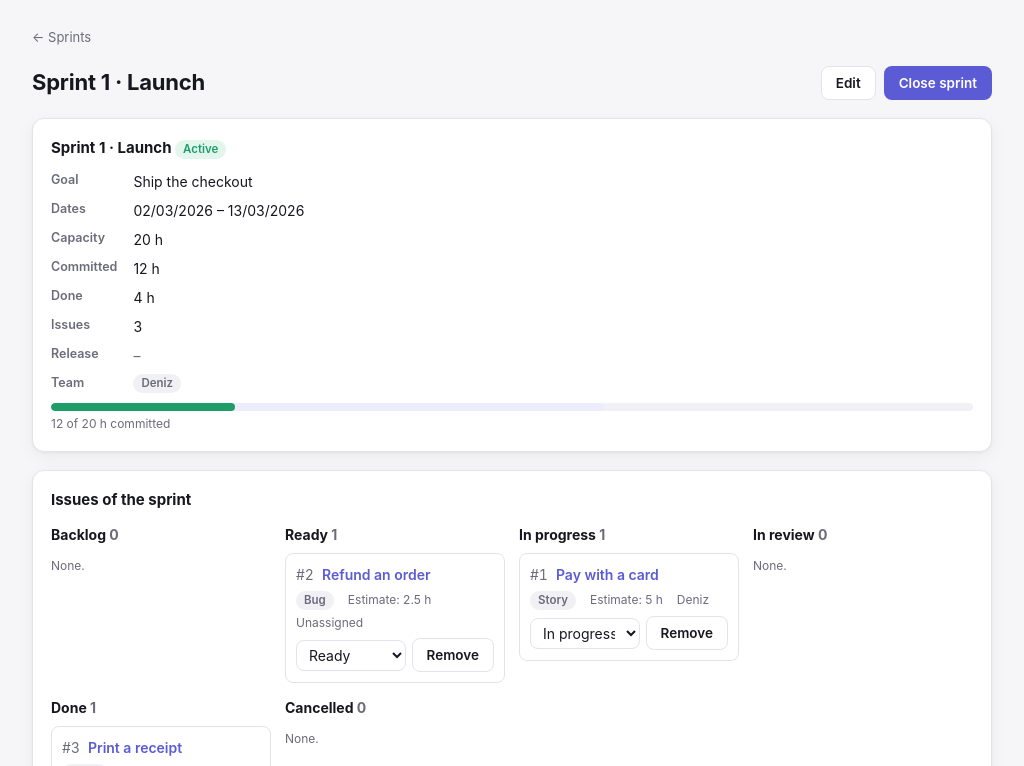
it: the sprint page: closing › shows a failed read of the planned sprints
The image size is (1024, 766).
Click the button "Close sprint".
click(938, 82)  # box [884, 66, 992, 100]
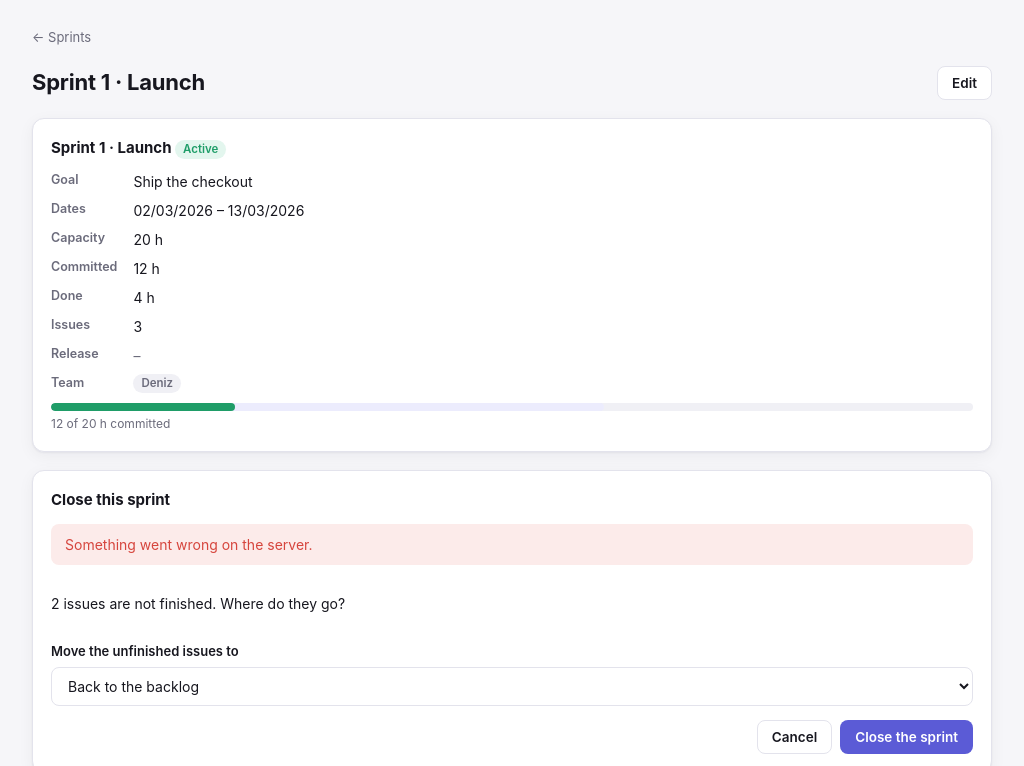
Check: the text "Something went wrong on the server." is shown, box [51, 524, 973, 565]
